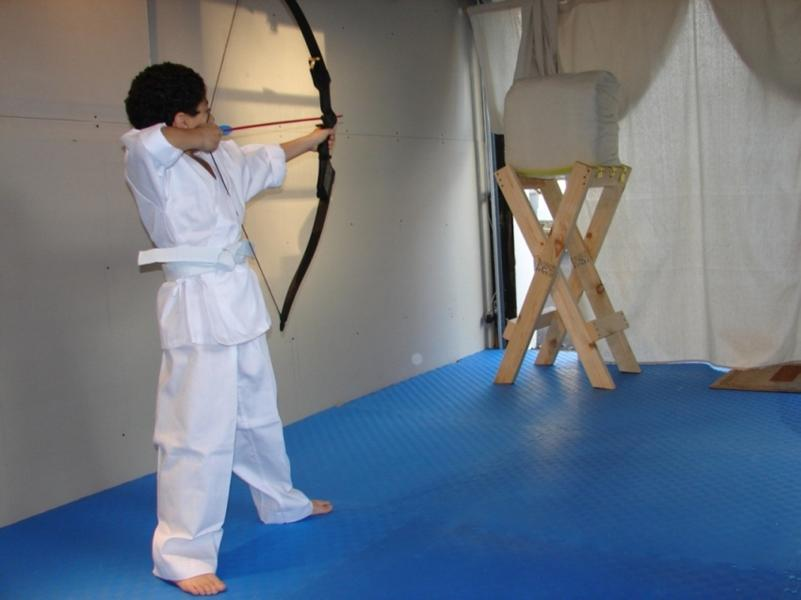person: (116, 56, 339, 598)
